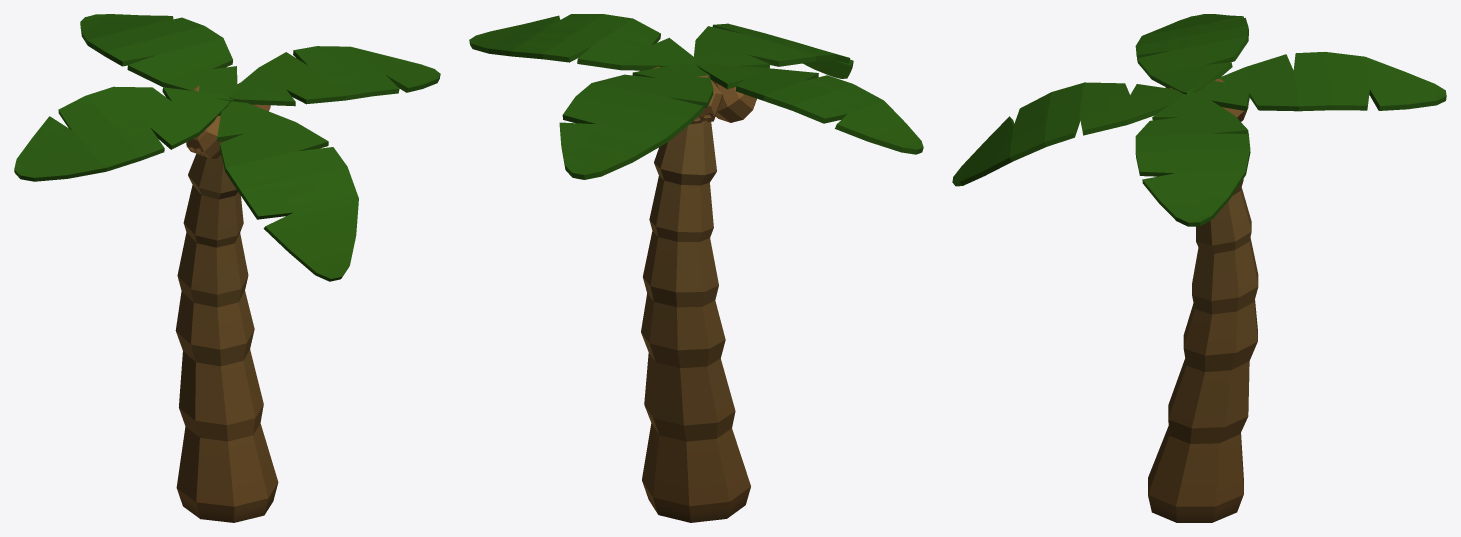
Rendered from SM_PalmTree1.fbx.
The picture shows the model from 3 angles, left to right: view 1: azimuth 30°, elevation 25°; view 2: azimuth 150°, elevation 25°; view 3: azimuth 270°, elevation 25°; orthographic projection. The views are drawn at different scales.
Visible parts, largest first — view 1: SM_PalmTree1; view 2: SM_PalmTree1; view 3: SM_PalmTree1.
Boxes of the visible parts, <box> form: SM_PalmTree1: <box>14,14,440,522</box>; SM_PalmTree1: <box>469,14,923,522</box>; SM_PalmTree1: <box>952,14,1446,522</box>.
Size of the model in its own units: 938 by 898 by 947.
